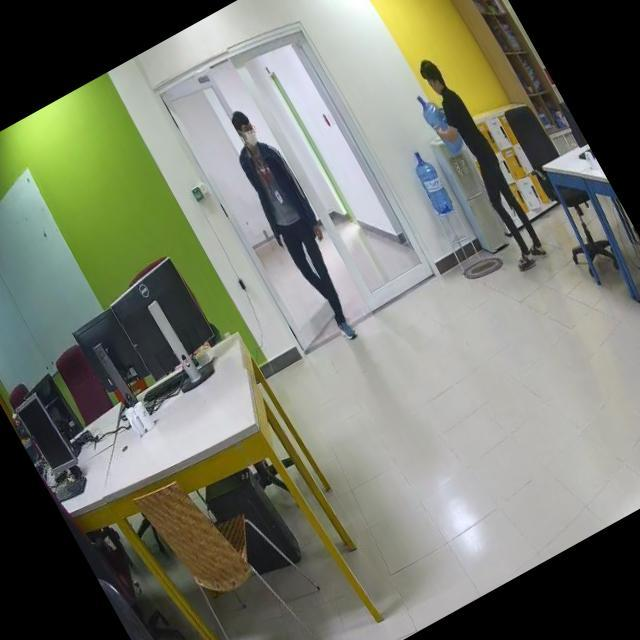person: (217, 99, 377, 342), (407, 50, 553, 274)
